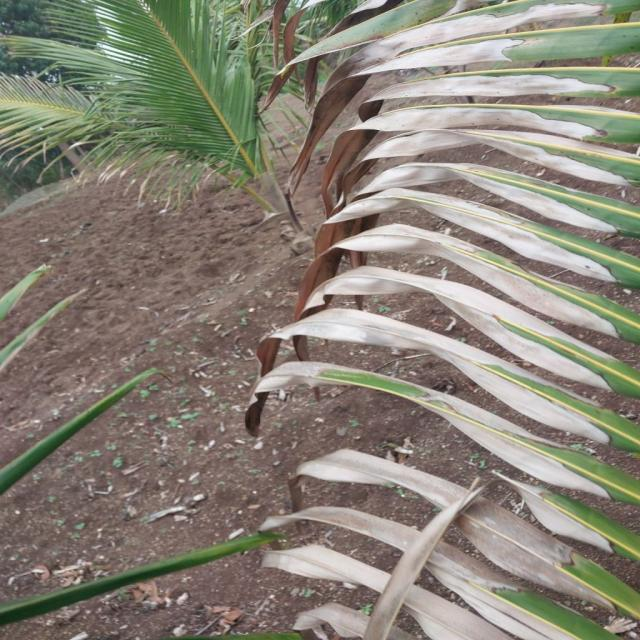gray leaf spot: (247, 0, 640, 559), (265, 450, 638, 640)
